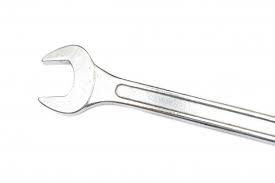wrench: (35, 43, 274, 144)
